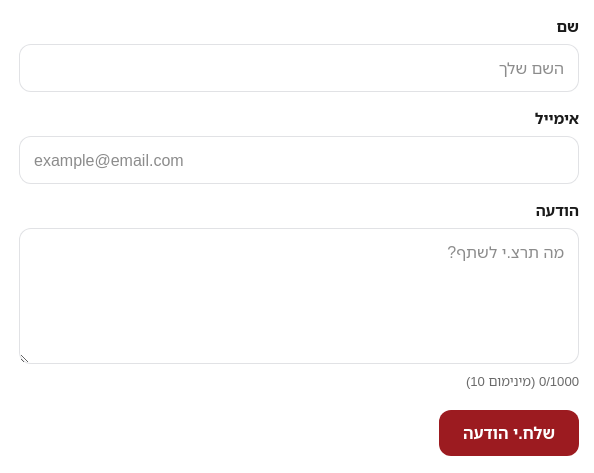
Test: ContactForm › shows success banner after successful submission
The image size is (594, 473).
Type "יוסי כהן" into the field with placeholder "השם שלך" at point(299, 68), box [19,44,579,92]
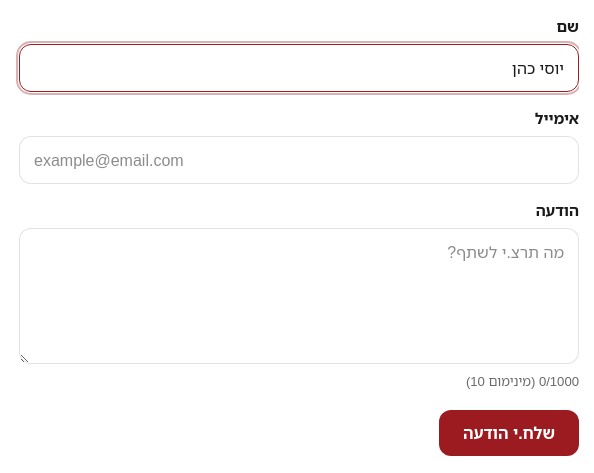
Type "test@example.com" into the field with placeholder "example@email.com" at point(299, 160), box [19,136,579,184]
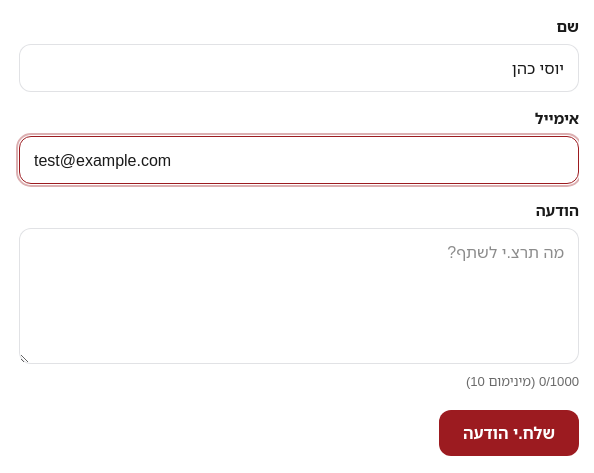
Type "הודעה טובה מאוד שמכילה מספיק תווים" into the text box with placeholder "מה תרצ.י לשתף?" at point(299, 296), box [19,228,579,364]
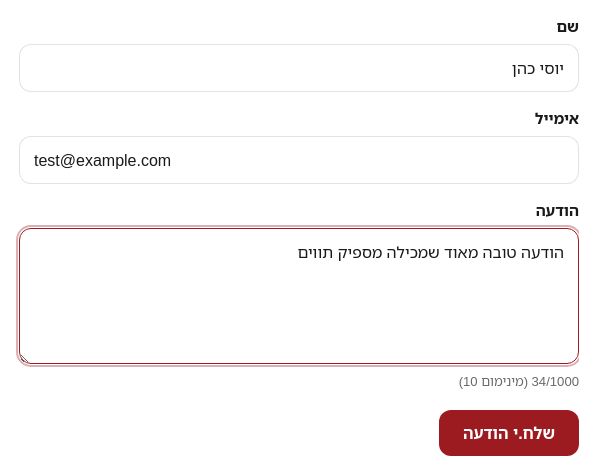
Click the button "שלח.י הודעה" at point(509, 433), box [439,410,579,456]
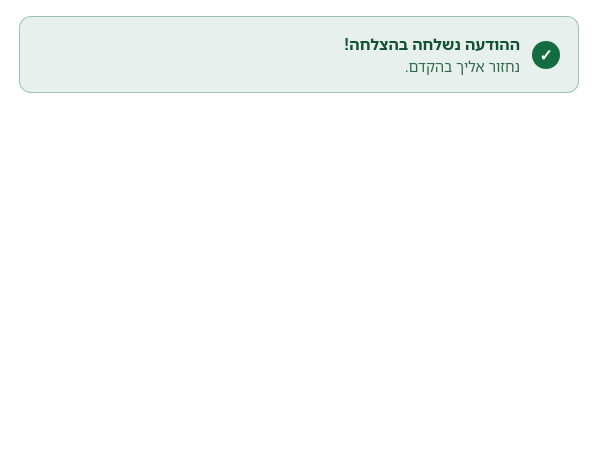
Expected: the message "✓ ההודעה נשלחה בהצלחה! נחזור אליך בהקדם." is shown, [19,16,579,93]
Expected: the text "ההודעה נשלחה בהצלחה!" is shown, [344,33,520,55]
